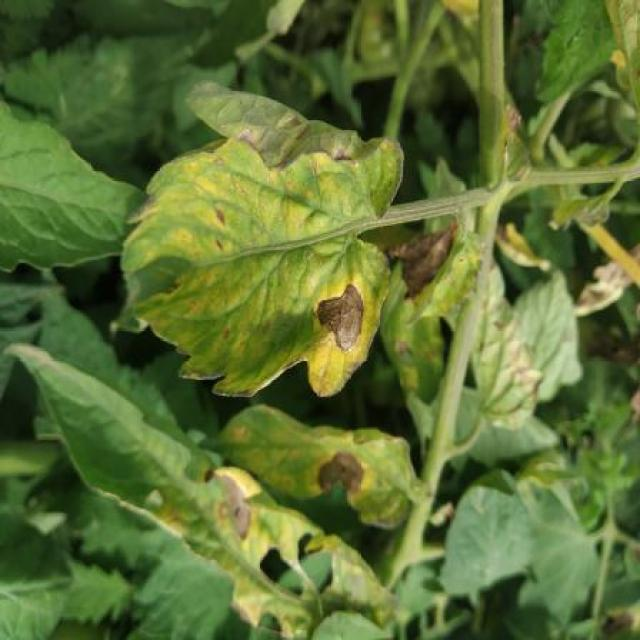Early Blight: (122, 81, 392, 399), (197, 396, 422, 538)
